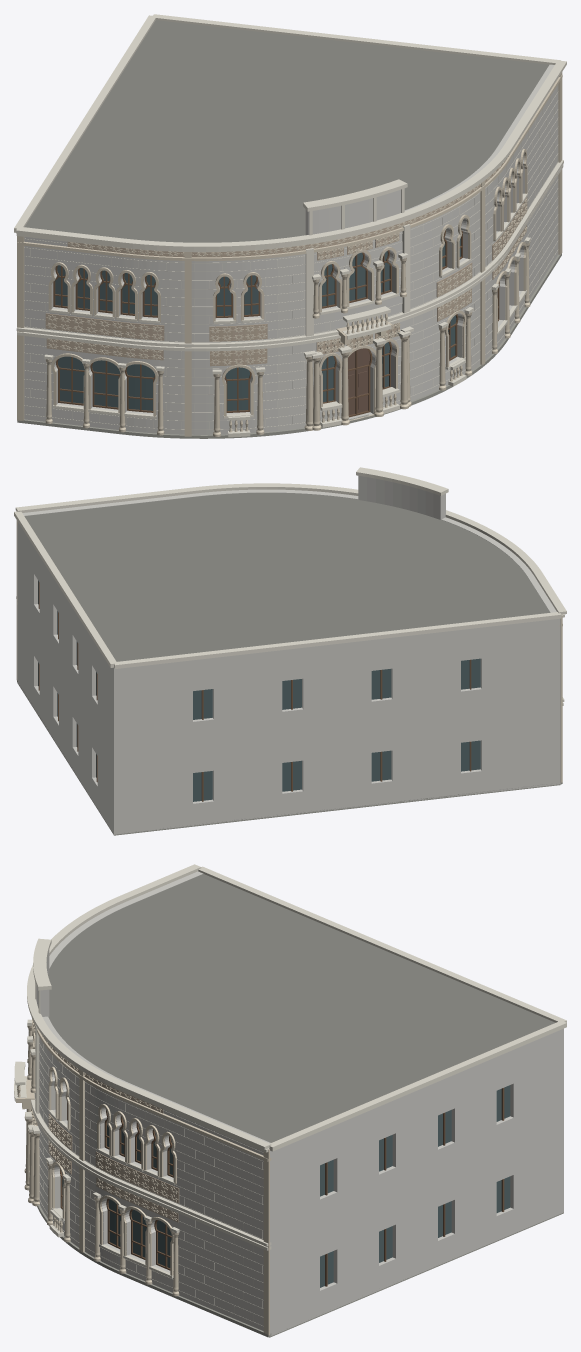
File: hongkou-duolun-250-web.glb
The picture shows the model from 3 angles, top to bottom: view 1: azimuth 30°, elevation 25°; view 2: azimuth 150°, elevation 25°; view 3: azimuth 270°, elevation 25°; orthographic projection. The views are drawn at different scales.
Visible parts, largest first — view 1: 多伦路250号住宅（弧形街面与中门）; view 2: 多伦路250号住宅（弧形街面与中门）; view 3: 多伦路250号住宅（弧形街面与中门）.
Boxes of the visible parts, left/top/right/bottom form: 多伦路250号住宅（弧形街面与中门）: left=14, top=14, right=566, bottom=438; 多伦路250号住宅（弧形街面与中门）: left=14, top=467, right=566, bottom=835; 多伦路250号住宅（弧形街面与中门）: left=14, top=864, right=566, bottom=1337.
Bounding box in the file's own units: 26.57 × 9.68 × 21.96.
